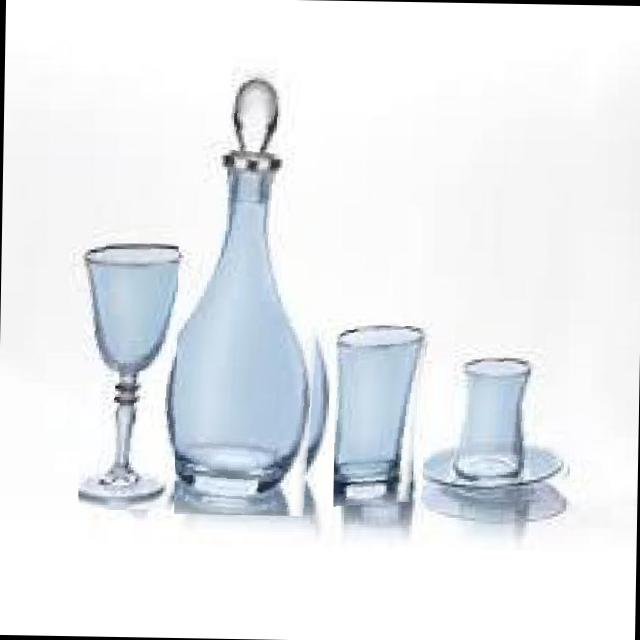Glass: (174, 66, 336, 516), (78, 242, 197, 512), (422, 356, 576, 506), (334, 324, 428, 509)
